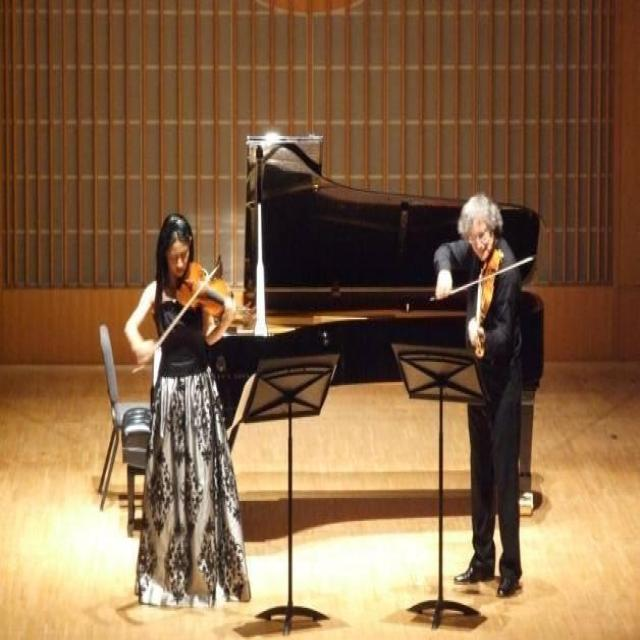violin: (173, 260, 255, 326), (469, 246, 504, 359)
